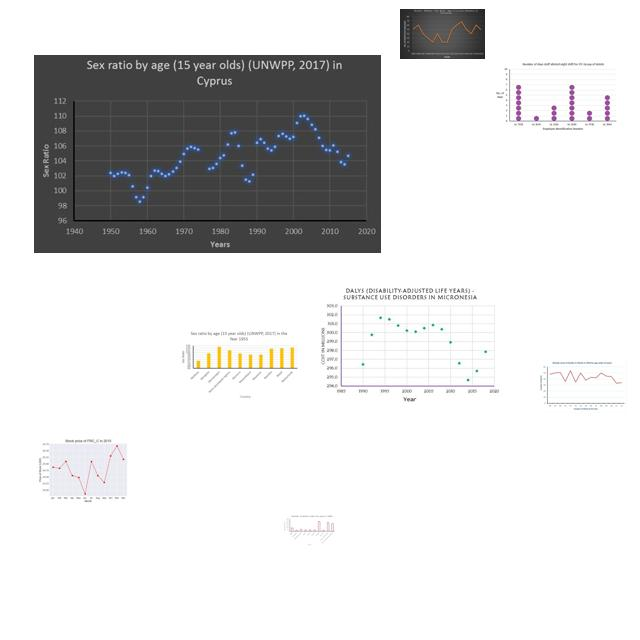Graph: (34, 55, 381, 253), (317, 285, 501, 404), (492, 61, 619, 133), (178, 330, 299, 401), (37, 432, 137, 507), (538, 360, 627, 413), (400, 9, 485, 59), (283, 514, 336, 547)
